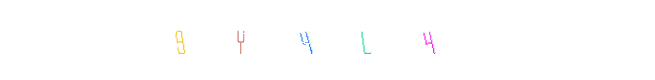4: (287, 0, 367, 80), (388, 0, 468, 80)
9: (140, 0, 220, 80)
L: (295, 0, 375, 80)
Y: (171, 0, 251, 80)
